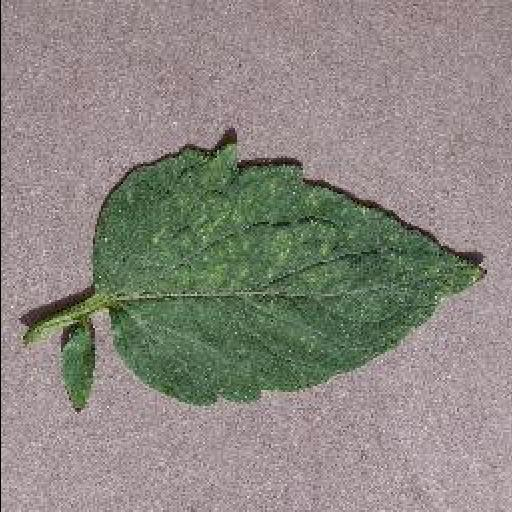disease_tomato: (94, 134, 486, 404)
